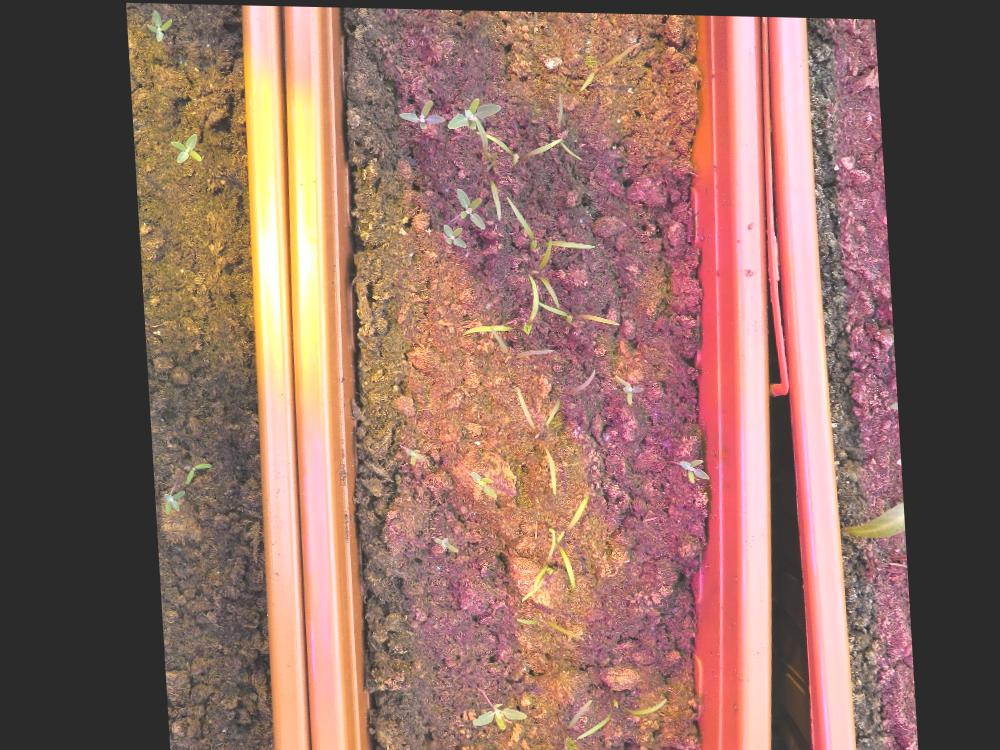weed: (462, 699, 521, 729), (396, 95, 446, 127), (453, 184, 484, 226), (609, 369, 641, 402), (167, 131, 201, 162), (145, 8, 176, 41), (674, 453, 707, 480), (463, 467, 494, 495), (177, 461, 208, 483), (439, 220, 465, 246), (158, 487, 182, 514), (427, 533, 453, 550), (399, 444, 422, 463)
